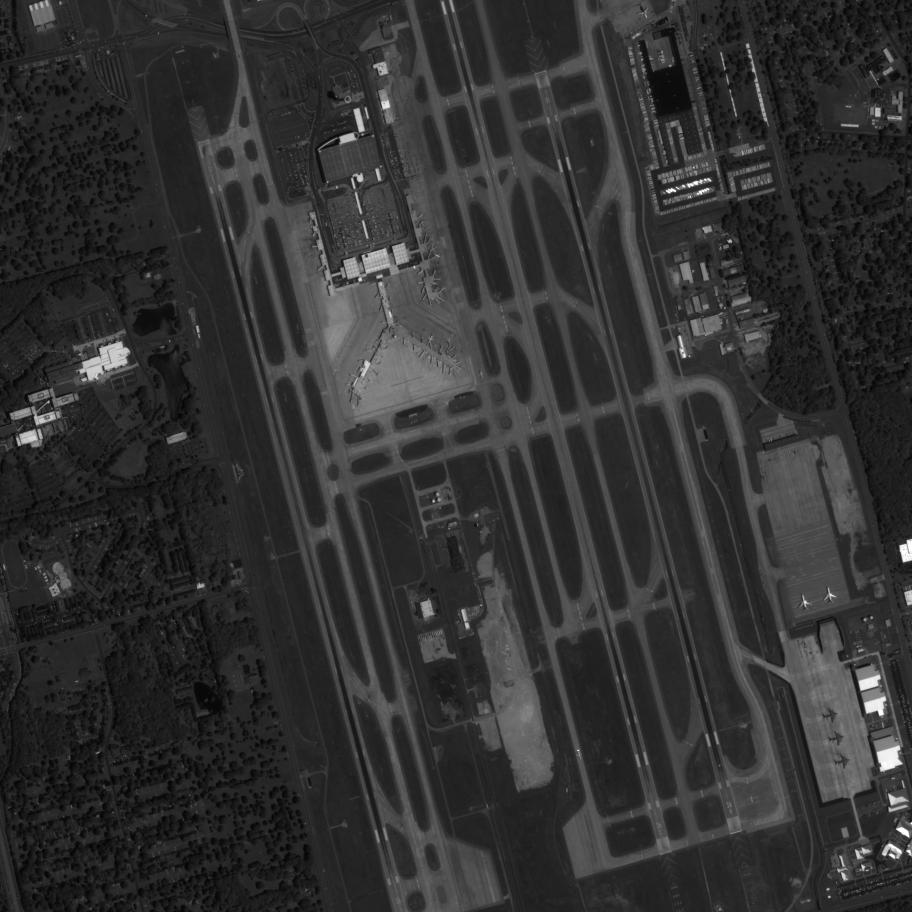plane: (635, 1, 653, 21), (821, 585, 838, 606), (833, 753, 852, 771), (796, 592, 812, 613), (821, 707, 840, 724), (828, 730, 845, 747), (425, 333, 435, 344), (575, 749, 584, 761), (477, 369, 485, 380), (433, 252, 443, 260), (441, 285, 448, 292)
storage-tank: (437, 498, 441, 503), (436, 492, 440, 496), (863, 618, 867, 622), (432, 499, 435, 504), (870, 616, 874, 619)
